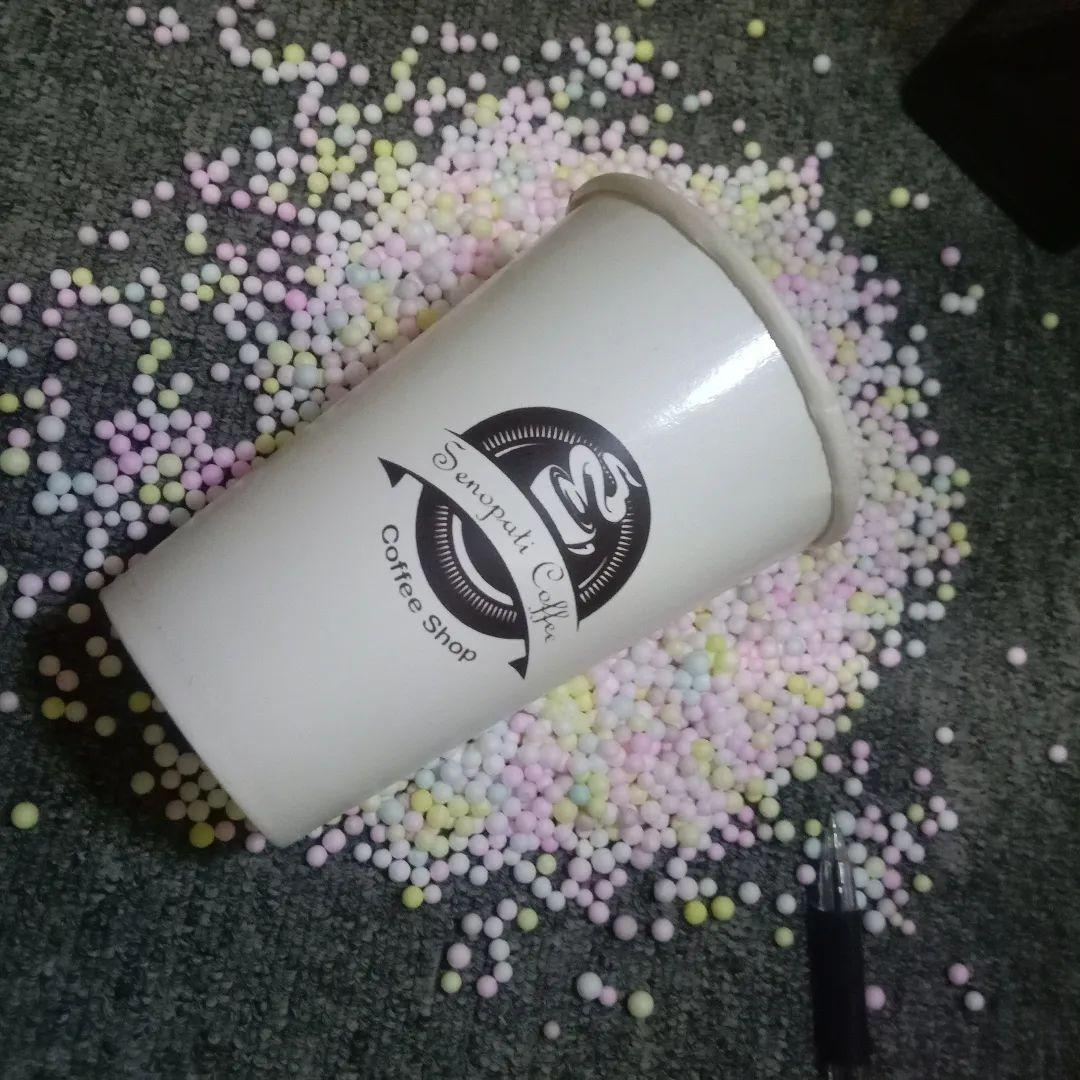cup-disposable: (103, 163, 882, 849)
